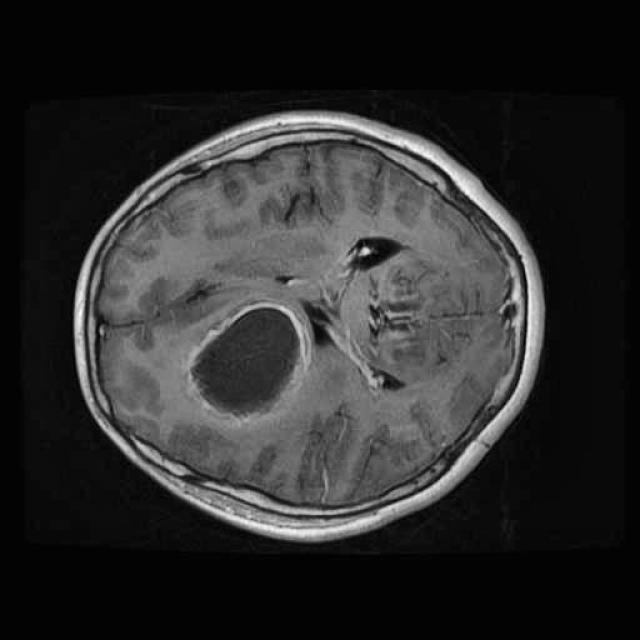Tumor: (180, 289, 316, 429)
